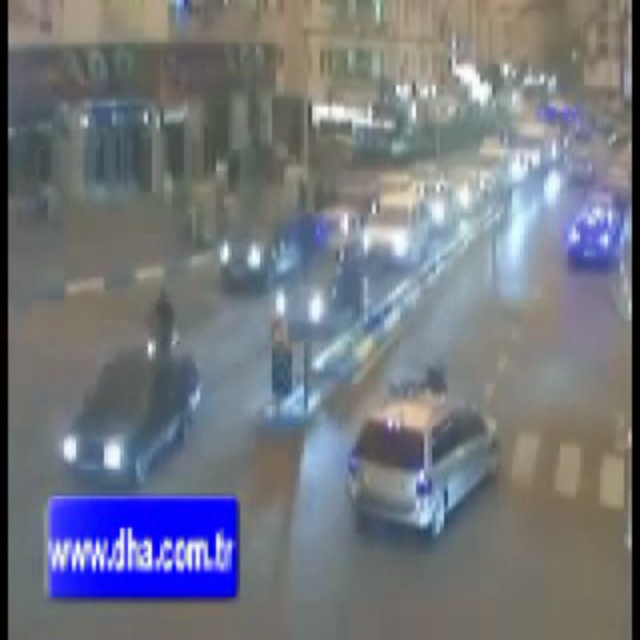acc: (369, 359, 495, 530)
